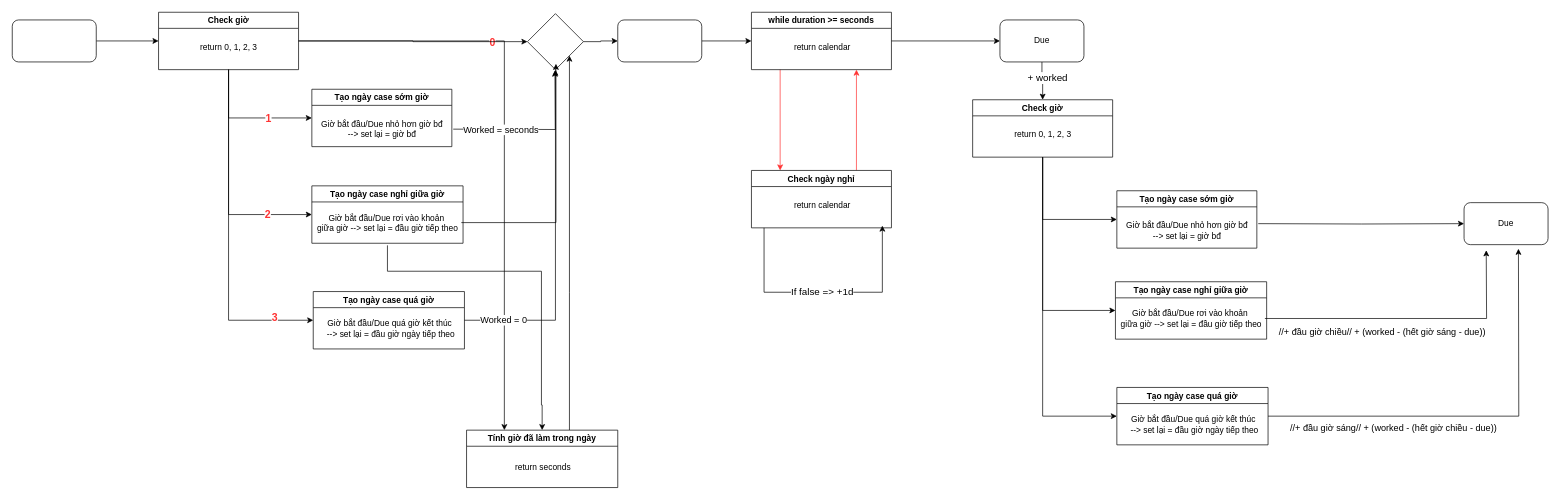
Image size: 1560x500. Some labels were removed from this diagram. The shapes that lost their labels are listed below. From the top down, each one's centre as x and y in pixels, then its label:
At pixel 54 40: "Ngày bđ".
At pixel 555 41: "Tính".
At pixel 659 40: "Duration".
